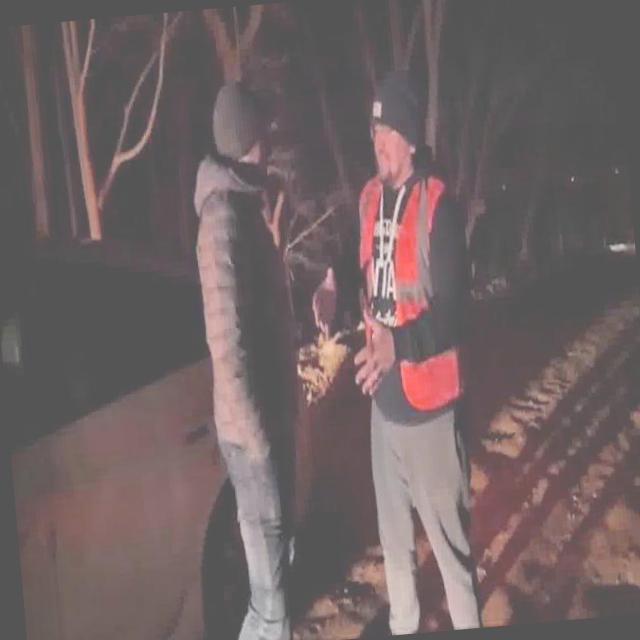vest: (352, 166, 463, 421)
